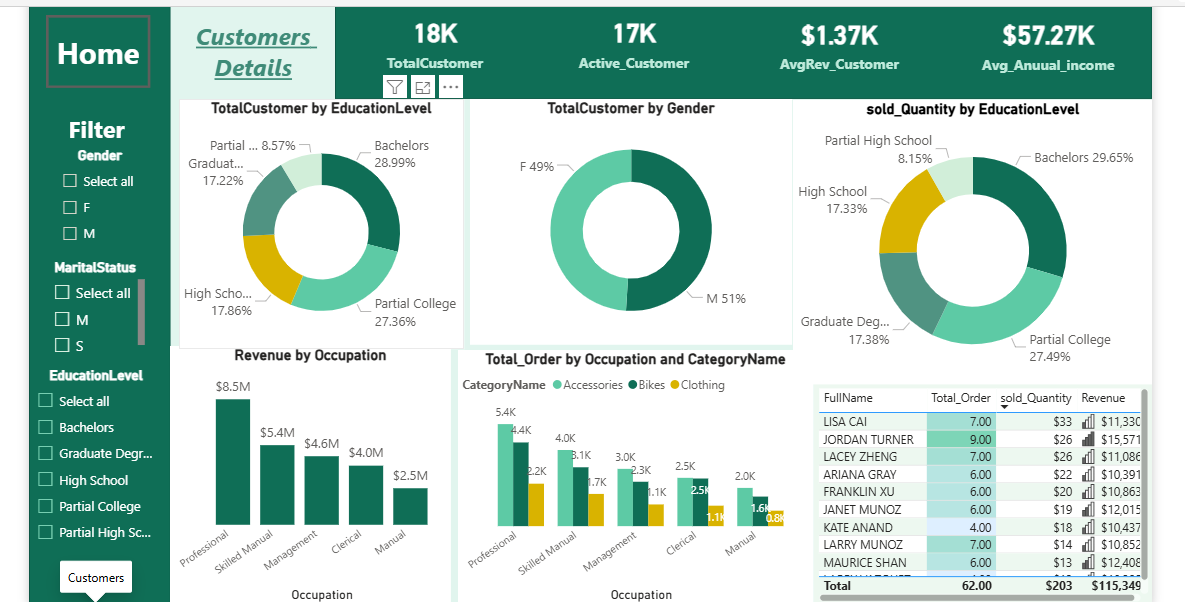

Layout of this report page (visuals, bound fields, positions):
{"tool":"powerbi","page":{"name":"Customers","canvas":[1280,720],"ordinal":1},"visuals":[{"type":"shape","box":[348.9,0,931.1,132.2],"z":0},{"type":"shape","box":[0,0,161.4,720],"z":1000},{"type":"shape","box":[348.9,10,931.1,132.2],"z":2000},{"type":"tableEx","fields":{"Values":["Customer.FullName","Measure.Total_Order","Measure.sold_Quantity","Measure.Revenue"]},"box":[893.8,466.9,386.2,253.1],"z":3000},{"type":"columnChart","fields":{"Category":["Customer.Occupation"],"Y":["Measure.Revenue"]},"box":[161.1,423.3,320,296.7],"z":4000},{"type":"donutChart","fields":{"Category":["Customer.EducationLevel"],"Y":["Measure.TotalCustomer"]},"box":[170.9,142.7,324.5,284.5],"z":5000},{"type":"donutChart","fields":{"Y":["Measure.TotalCustomer"],"Category":["Customer.Gender"]},"box":[502.9,142.9,367.1,280],"z":6000},{"type":"clusteredColumnChart","fields":{"Category":["Customer.Occupation"],"Y":["Measure.Total_Order"],"Series":["Product Categories.CategoryName"]},"box":[489,428,405,292],"z":7000},{"type":"donutChart","fields":{"Category":["Customer.EducationLevel"],"Y":["Measure.sold_Quantity"]},"box":[870,143,410,324],"z":8000},{"type":"card","fields":{"Values":["Measure.TotalCustomer"]},"box":[354.4,23.3,216.7,106.7],"z":9000},{"type":"card","fields":{"Values":["Measure.Avg_Anuual_income"]},"box":[1042.2,27.8,237.8,102.2],"z":10000},{"type":"card","fields":{"Values":["Measure.Active_Customer"]},"box":[573.7,21.1,230,108.9],"z":11000},{"type":"card","fields":{"Values":["Measure.AvgRev_Customer"]},"box":[806.7,26.7,233.3,103.3],"z":12000},{"type":"actionButton","box":[18.9,46.7,118.9,83.3],"z":13000},{"type":"textbox","box":[28.6,152.9,97.1,58.6],"z":14000},{"type":"listSlicer","fields":{"Values":["Customer.Gender"]},"box":[32.9,197.1,95.7,127.1],"z":15000},{"type":"listSlicer","fields":{"Values":["Customer.MaritalStatus"]},"box":[24.4,324.4,113.3,115.6],"z":16000},{"type":"listSlicer","fields":{"Values":["Customer.EducationLevel"]},"box":[5,447.5,143.8,251.2],"z":17000},{"type":"textbox","box":[161.2,46.2,187.5,86.2],"z":18000}]}

Visuals, with their boxes on the page's 1280x720 design canvas (x1, y1, x2, y2). These are canvas units, not pixel positions in the 1185x602 screenshot, which may show the page scaled, cropped or inside an application window:
shape: {"left": 349, "top": 0, "right": 1280, "bottom": 132}
shape: {"left": 0, "top": 0, "right": 161, "bottom": 720}
shape: {"left": 349, "top": 10, "right": 1280, "bottom": 142}
tableEx - Customer.FullName x Measure.Total_Order: {"left": 894, "top": 467, "right": 1280, "bottom": 720}
columnChart - Customer.Occupation x Measure.Revenue: {"left": 161, "top": 423, "right": 481, "bottom": 720}
donutChart - Customer.EducationLevel x Measure.TotalCustomer: {"left": 171, "top": 143, "right": 495, "bottom": 427}
donutChart - Measure.TotalCustomer x Customer.Gender: {"left": 503, "top": 143, "right": 870, "bottom": 423}
clusteredColumnChart - Customer.Occupation x Measure.Total_Order: {"left": 489, "top": 428, "right": 894, "bottom": 720}
donutChart - Customer.EducationLevel x Measure.sold_Quantity: {"left": 870, "top": 143, "right": 1280, "bottom": 467}
card - Measure.TotalCustomer: {"left": 354, "top": 23, "right": 571, "bottom": 130}
card - Measure.Avg_Anuual_income: {"left": 1042, "top": 28, "right": 1280, "bottom": 130}
card - Measure.Active_Customer: {"left": 574, "top": 21, "right": 804, "bottom": 130}
card - Measure.AvgRev_Customer: {"left": 807, "top": 27, "right": 1040, "bottom": 130}
actionButton: {"left": 19, "top": 47, "right": 138, "bottom": 130}
textbox: {"left": 29, "top": 153, "right": 126, "bottom": 212}
listSlicer - Customer.Gender: {"left": 33, "top": 197, "right": 129, "bottom": 324}
listSlicer - Customer.MaritalStatus: {"left": 24, "top": 324, "right": 138, "bottom": 440}
listSlicer - Customer.EducationLevel: {"left": 5, "top": 448, "right": 149, "bottom": 699}
textbox: {"left": 161, "top": 46, "right": 349, "bottom": 132}
